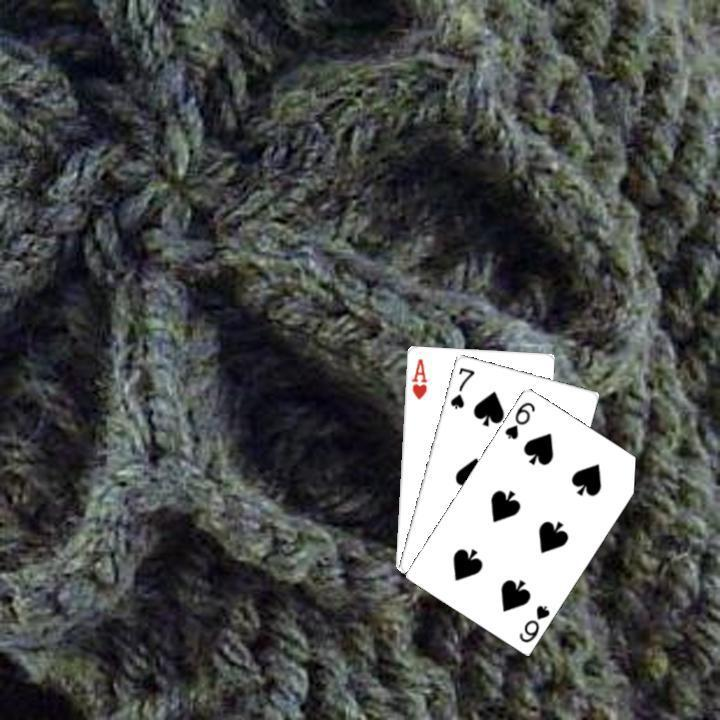6: (514, 600, 552, 644), (500, 397, 537, 441)
7: (446, 362, 476, 411)
A: (407, 354, 429, 401)
